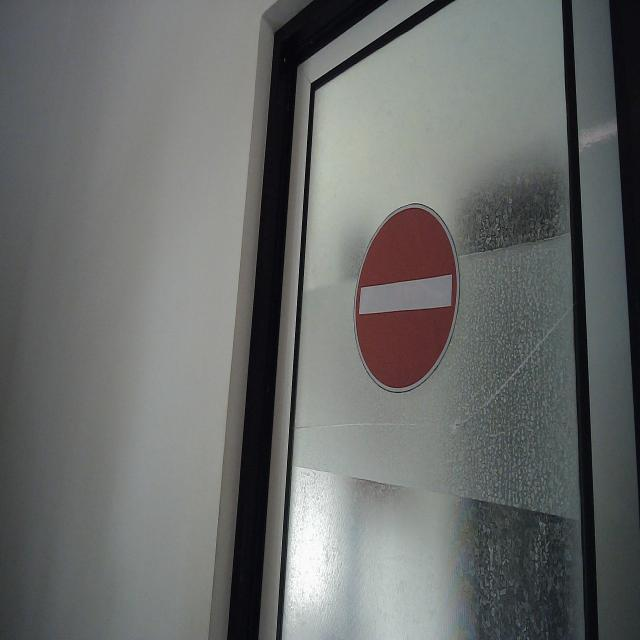no_entry: (352, 201, 463, 396)
